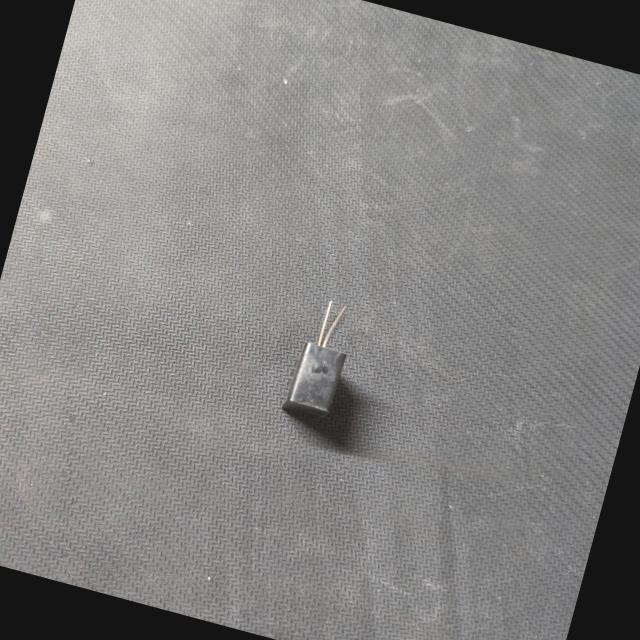capacitor: (280, 301, 347, 420)
